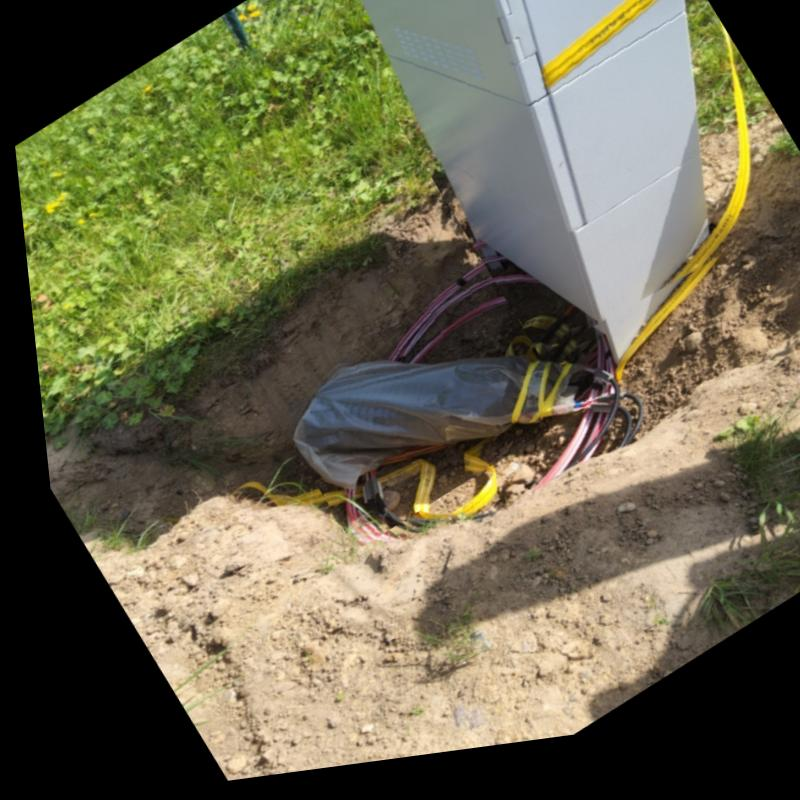NT-Gehause: (357, 0, 707, 342)
NT-Muffen: (280, 368, 590, 493)
